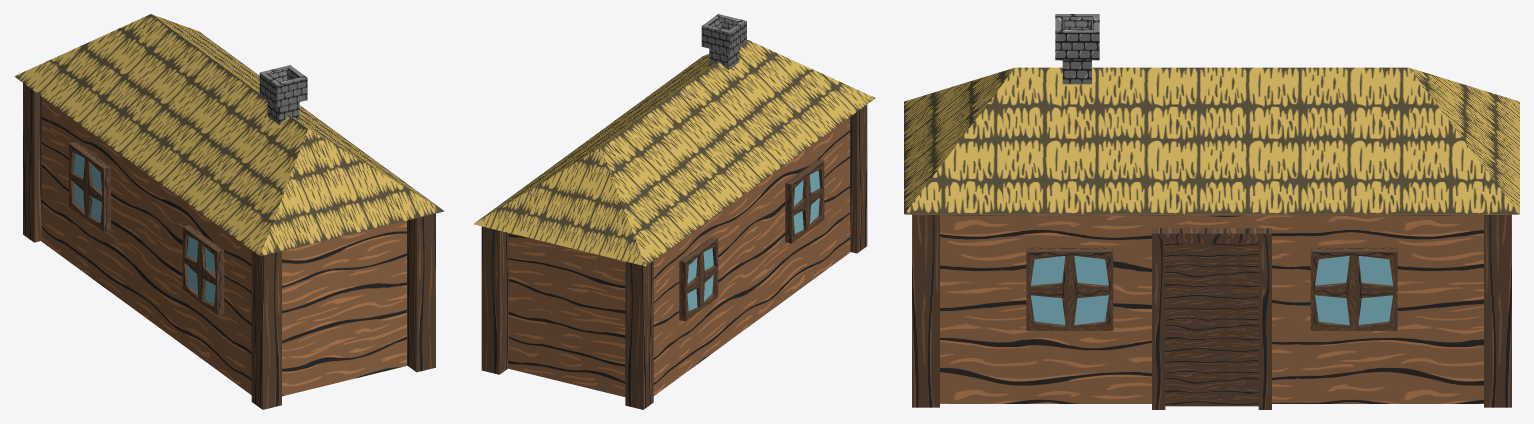
File: Hata1.fbx
3 views of the same model, side by side, from view 1: azimuth 30°, elevation 25°; view 2: azimuth 150°, elevation 25°; view 3: azimuth 270°, elevation 25° (orthographic). The views are drawn at different scales.
Visible parts, largest first — view 1: Cube, Cube.002, Plane.001, Cube.001; view 2: Cube, Cube.002, Plane.001, Cube.001; view 3: Cube, Plane, Plane.001, Cube.002, Cube.001.
Part boxes in pixels (x1,y1,x2,y2): Cube: (14, 14, 444, 396); Cube.002: (23, 83, 435, 409); Plane.001: (69, 142, 224, 315); Cube.001: (259, 65, 307, 124); Cube: (473, 40, 875, 396); Cube.002: (481, 104, 867, 409); Plane.001: (679, 159, 824, 321); Cube.001: (701, 14, 746, 69); Cube: (904, 67, 1519, 403); Plane: (1152, 228, 1271, 409); Plane.001: (1026, 247, 1397, 330); Cube.002: (912, 214, 1511, 407); Cube.001: (1055, 14, 1099, 84).
Bounding box in the file's own units: 446 × 614 × 1028.
